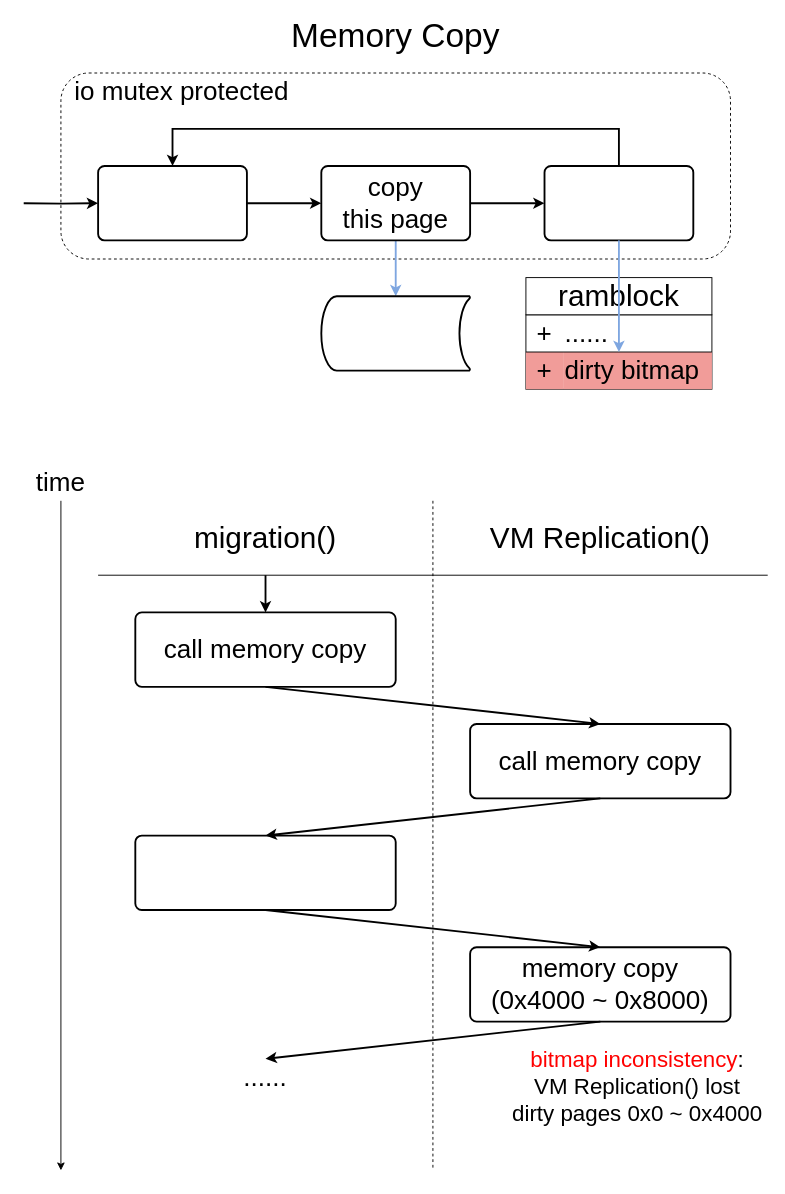
Image size: 785x1194. Some labels were removed from this diagram. The shapes that lost their labels are listed below. From the top down, each one's centre as x and y in pixels, then its label:
At [172,203]: "find a dirty page".
At [618,203]: "clear dirty bit".
At [395,333]: "stored dirty pages".
At [265,872]: "memory copy (0x0 ~ 0x4000)".
